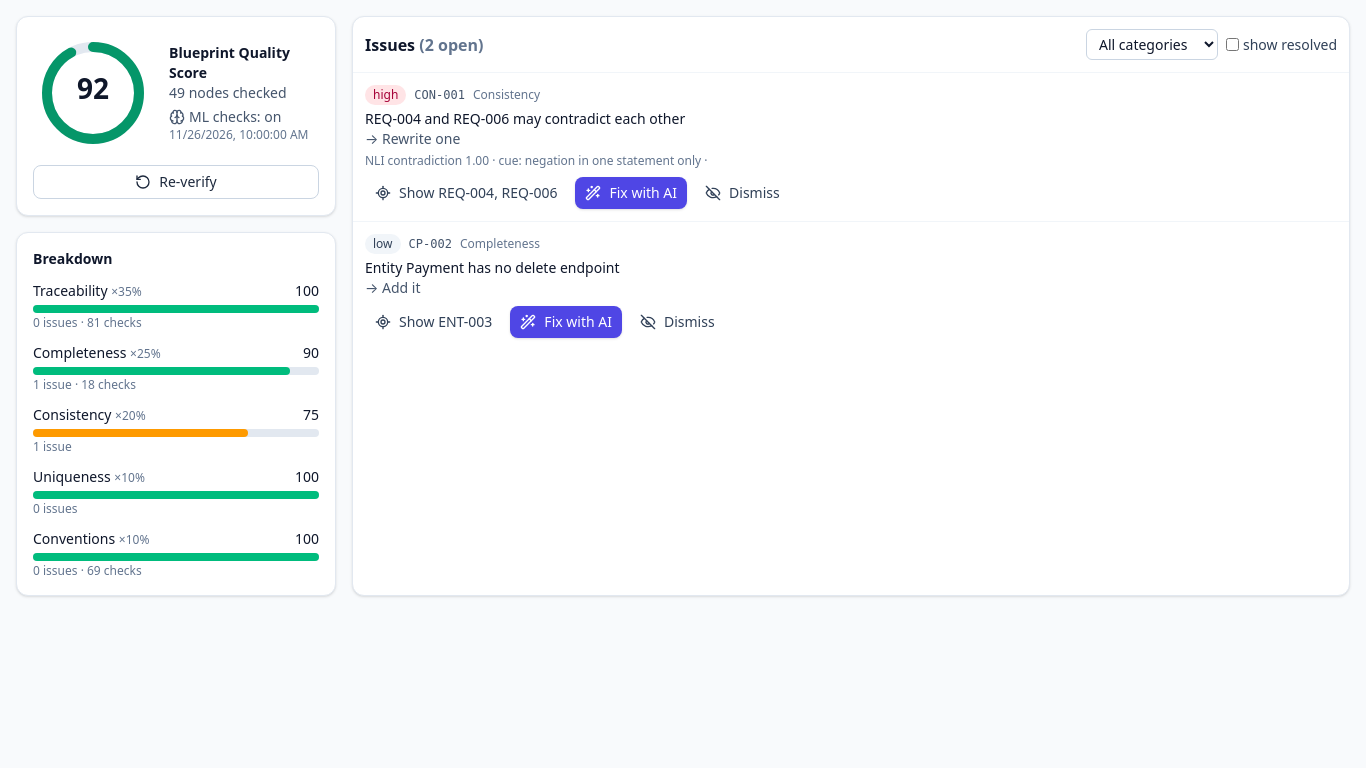
Test: QualityPanel › filters by category and jumps to nodes
Later steps or results of the test are not shown.
Expected: the text "REQ-004 and REQ-006 may contradict each other" is shown, [365,109,685,128]
Select "Completeness" in the dropdown named "Filter by category" at {"x": 1152, "y": 44}, box [1086,29,1218,60]
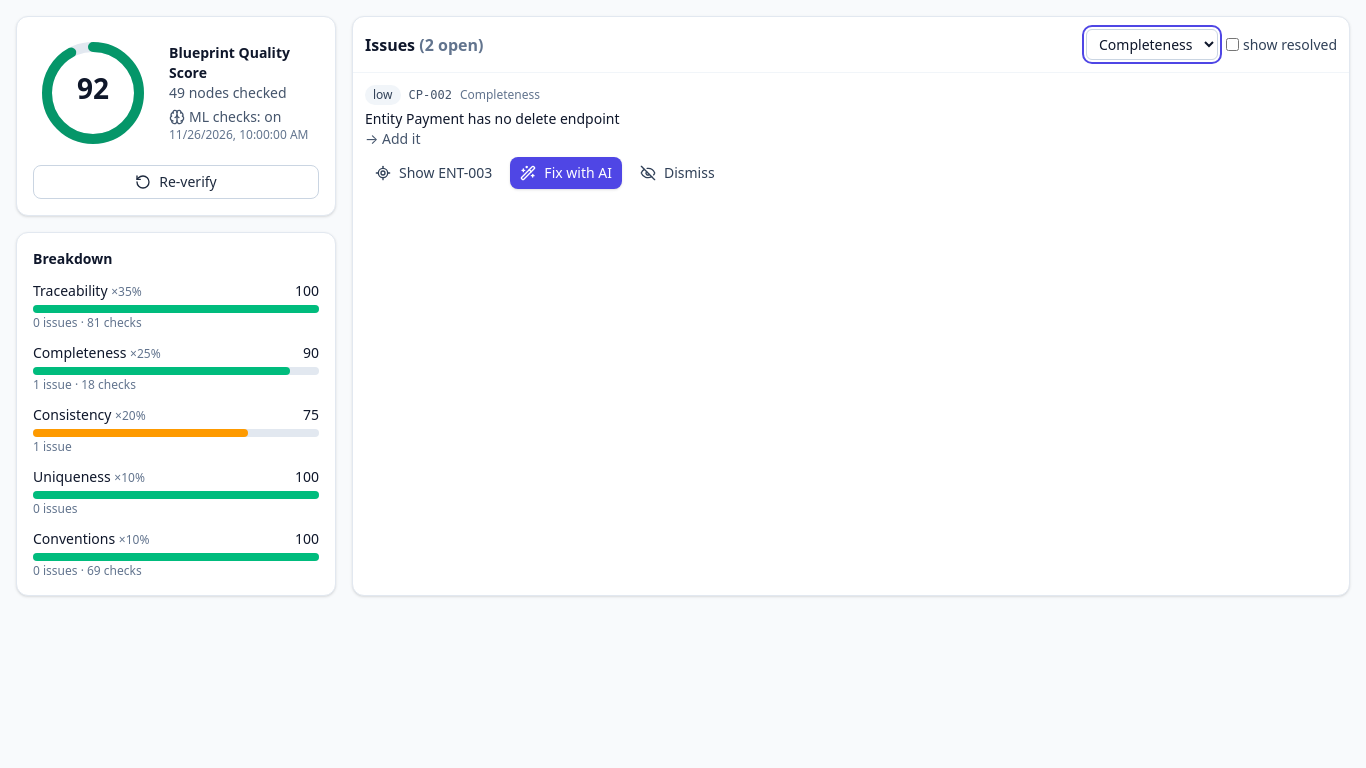
Expected: the text "may contradict" is gone
